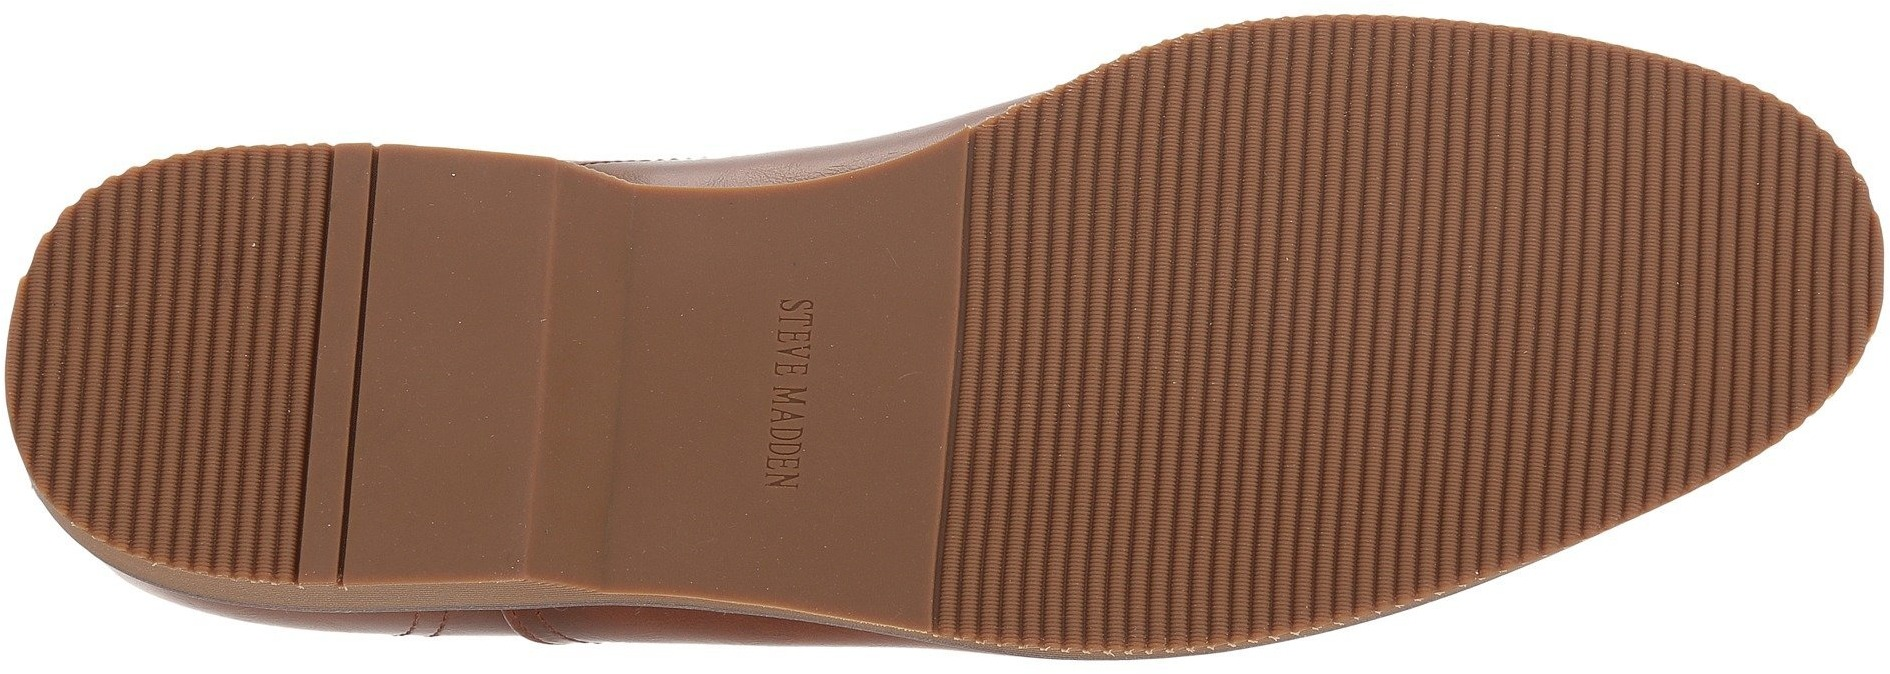line: (1227, 295, 1515, 565), (1519, 121, 1791, 405), (61, 200, 307, 471), (972, 133, 1220, 398), (1237, 42, 1505, 287), (963, 409, 1193, 631)
other: (372, 262, 532, 453)
text: (761, 272, 865, 362), (770, 392, 830, 467)
